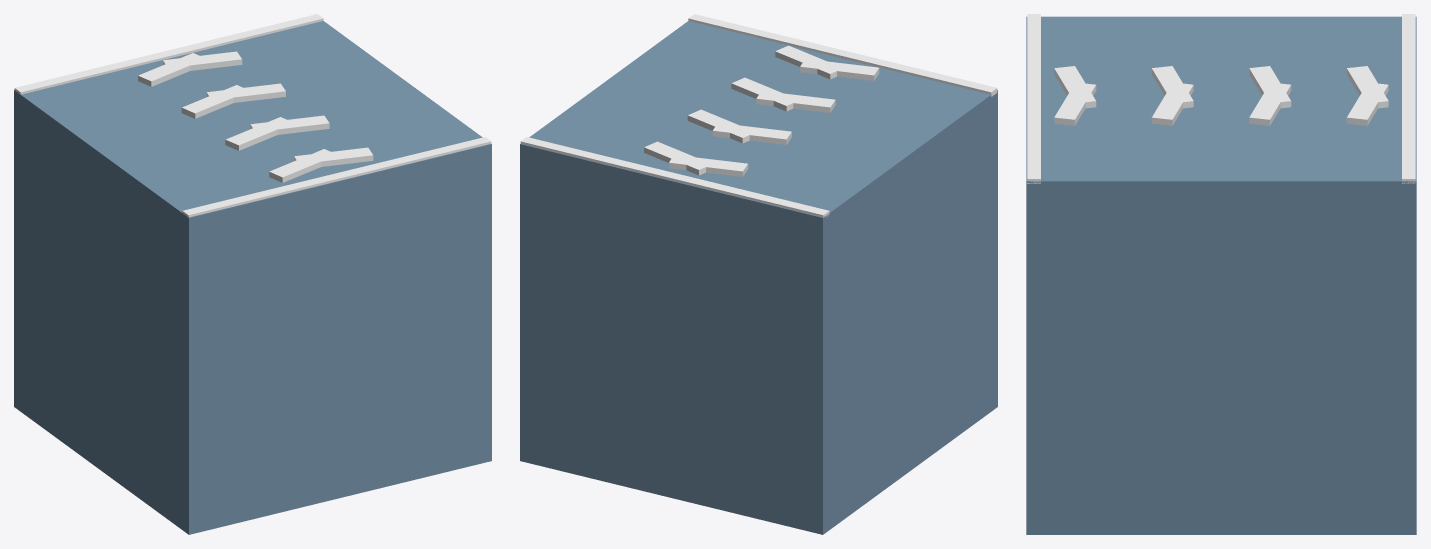
File: OnOffConveyorB_Full.glb
3 renders of one model, left to right at view 1: azimuth 30°, elevation 25°; view 2: azimuth 150°, elevation 25°; view 3: azimuth 270°, elevation 25°, orthographic. The views are drawn at different scales.
Visible parts, largest first — view 1: OnOffConveyorB_Full_body, rail_0.015, rail_-0.015, chev_0_1.015, chev_3_1.015, chev_1_1.015, chev_2_1.015, chev_1_-1.015, chev_2_-1.015, chev_0_-1.015, chev_3_-1.015; view 2: OnOffConveyorB_Full_body, rail_-0.015, rail_0.015, chev_2_1.015, chev_0_1.015, chev_3_1.015, chev_1_-1.015, chev_1_1.015, chev_0_-1.015, chev_2_-1.015, chev_3_-1.015; view 3: OnOffConveyorB_Full_body, rail_0.015, rail_-0.015, chev_2_-1.015, chev_3_-1.015, chev_1_-1.015, chev_0_-1.015, chev_1_1.015, chev_0_1.015, chev_3_1.015, chev_2_1.015.
Boxes of the visible parts, x1=… form: OnOffConveyorB_Full_body: x1=14, y1=21, x2=491, y2=534; rail_0.015: x1=14, y1=14, x2=323, y2=94; rail_-0.015: x1=182, y1=137, x2=491, y2=217; chev_0_1.015: x1=269, y1=149, x2=336, y2=182; chev_3_1.015: x1=138, y1=53, x2=205, y2=86; chev_1_1.015: x1=225, y1=117, x2=293, y2=150; chev_2_1.015: x1=181, y1=85, x2=243, y2=118; chev_1_-1.015: x1=250, y1=115, x2=329, y2=134; chev_2_-1.015: x1=206, y1=83, x2=285, y2=102; chev_0_-1.015: x1=294, y1=147, x2=373, y2=166; chev_3_-1.015: x1=163, y1=51, x2=242, y2=70; OnOffConveyorB_Full_body: x1=520, y1=21, x2=997, y2=534; rail_-0.015: x1=688, y1=14, x2=997, y2=96; rail_0.015: x1=520, y1=137, x2=829, y2=217; chev_2_1.015: x1=712, y1=123, x2=791, y2=144; chev_0_1.015: x1=800, y1=59, x2=879, y2=80; chev_3_1.015: x1=669, y1=155, x2=748, y2=176; chev_1_-1.015: x1=731, y1=77, x2=799, y2=111; chev_1_1.015: x1=756, y1=93, x2=835, y2=112; chev_0_-1.015: x1=775, y1=45, x2=836, y2=79; chev_2_-1.015: x1=687, y1=109, x2=749, y2=143; chev_3_-1.015: x1=644, y1=141, x2=705, y2=175; OnOffConveyorB_Full_body: x1=1026, y1=16, x2=1416, y2=534; rail_0.015: x1=1402, y1=14, x2=1415, y2=183; rail_-0.015: x1=1027, y1=14, x2=1040, y2=183; chev_2_-1.015: x1=1249, y1=82, x2=1291, y2=125; chev_3_-1.015: x1=1346, y1=83, x2=1388, y2=125; chev_1_-1.015: x1=1151, y1=82, x2=1193, y2=125; chev_0_-1.015: x1=1054, y1=82, x2=1096, y2=125; chev_1_1.015: x1=1151, y1=66, x2=1193, y2=108; chev_0_1.015: x1=1054, y1=66, x2=1096, y2=108; chev_3_1.015: x1=1346, y1=66, x2=1388, y2=108; chev_2_1.015: x1=1249, y1=66, x2=1291, y2=108.
Bounding box in the file's own units: 1 × 1.02 × 1.
